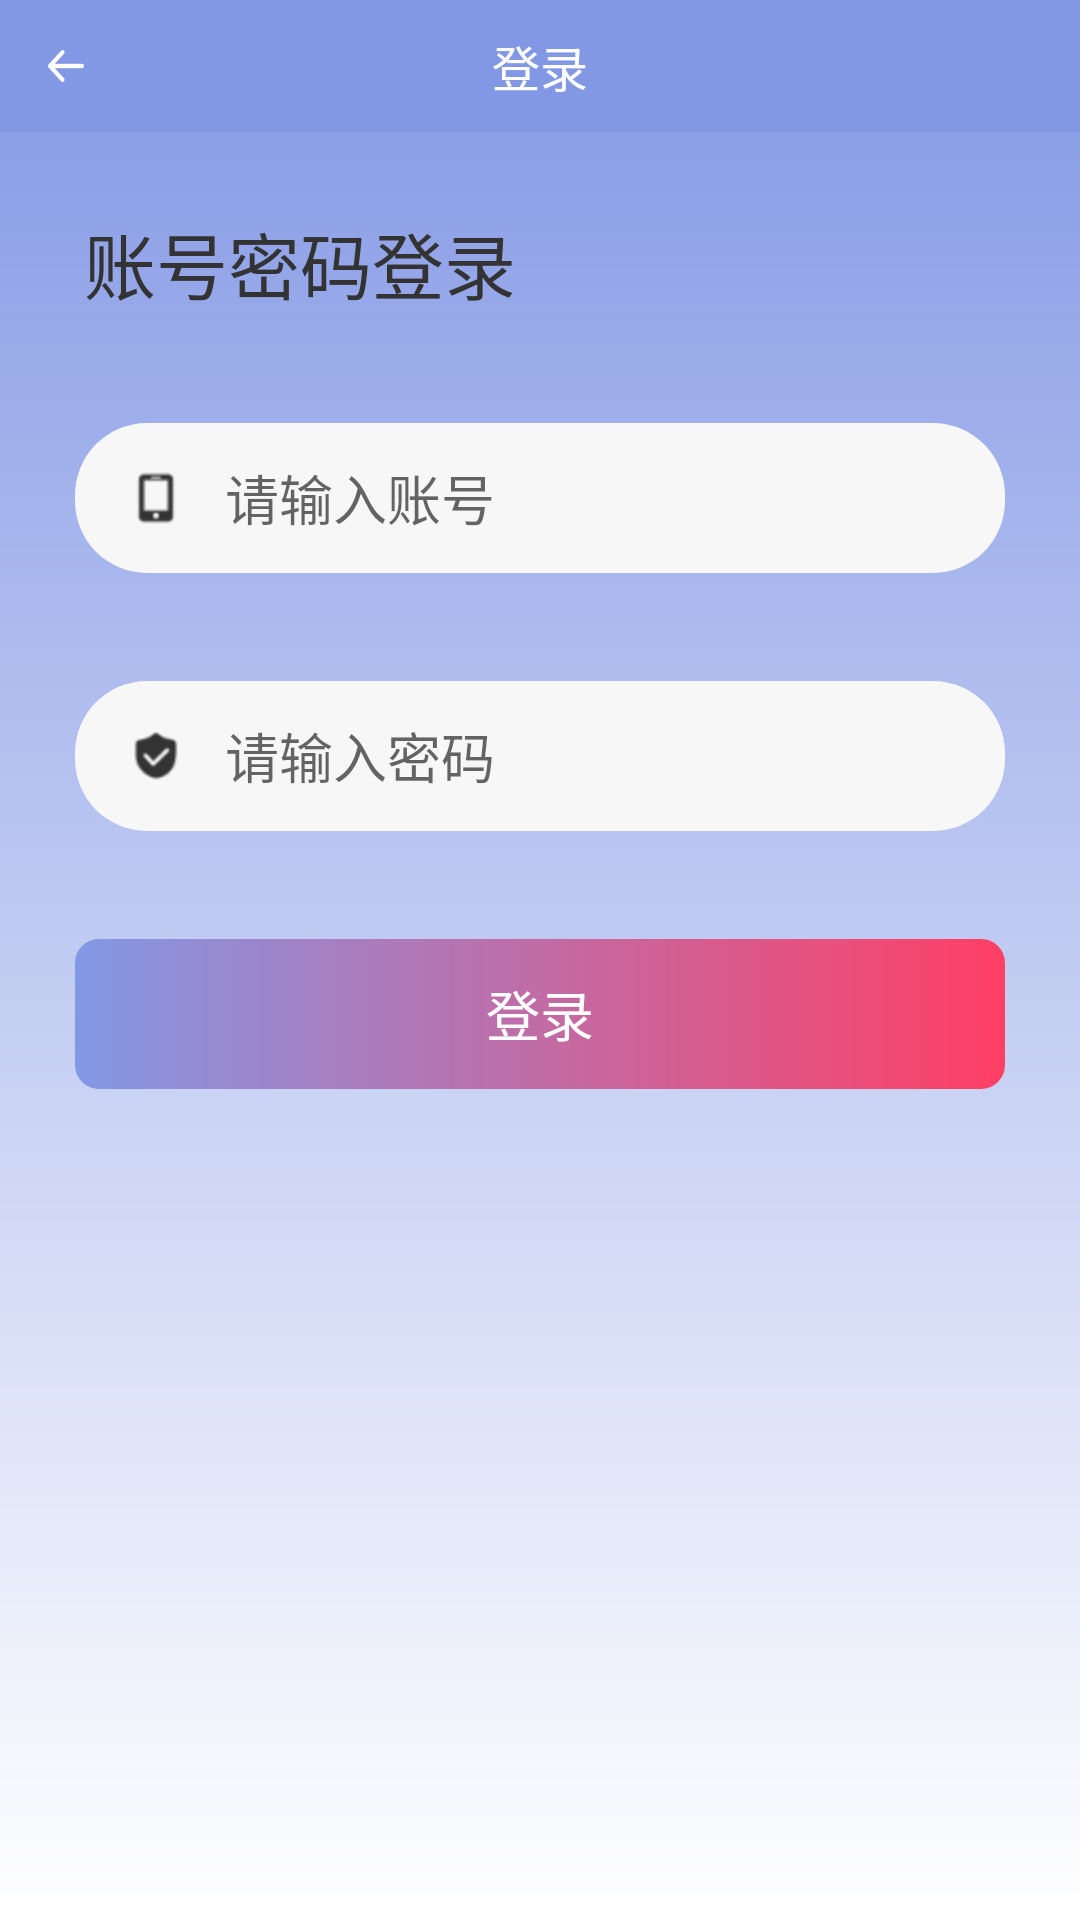

Icons on this 1080w x 1920h Android screen, each with the point to tap as (x,y):
arrow back: (66,66)
